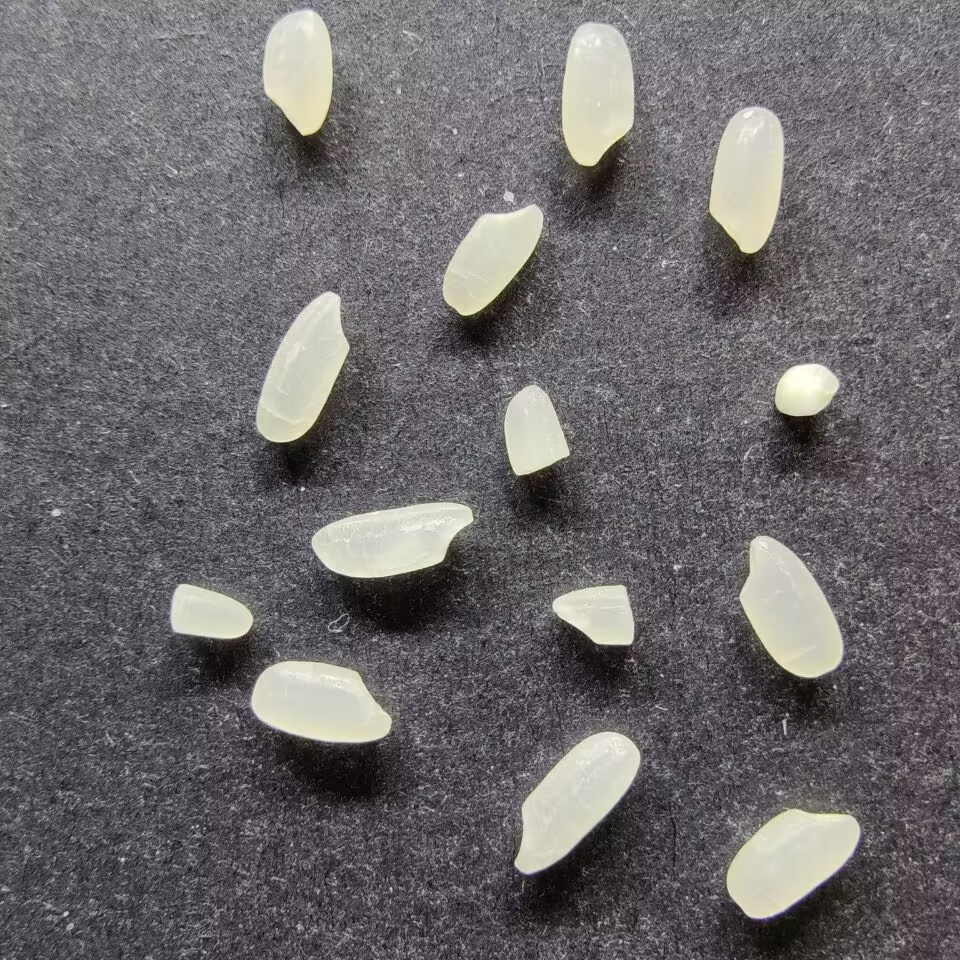broken: (502, 383, 571, 477), (548, 584, 638, 649), (168, 581, 254, 639), (773, 361, 843, 417)
rice: (512, 730, 641, 876), (737, 533, 845, 680), (724, 807, 862, 920), (254, 290, 351, 444), (309, 499, 474, 579), (440, 201, 546, 318), (249, 659, 393, 744), (706, 105, 786, 254), (559, 21, 637, 168), (260, 9, 336, 136)
